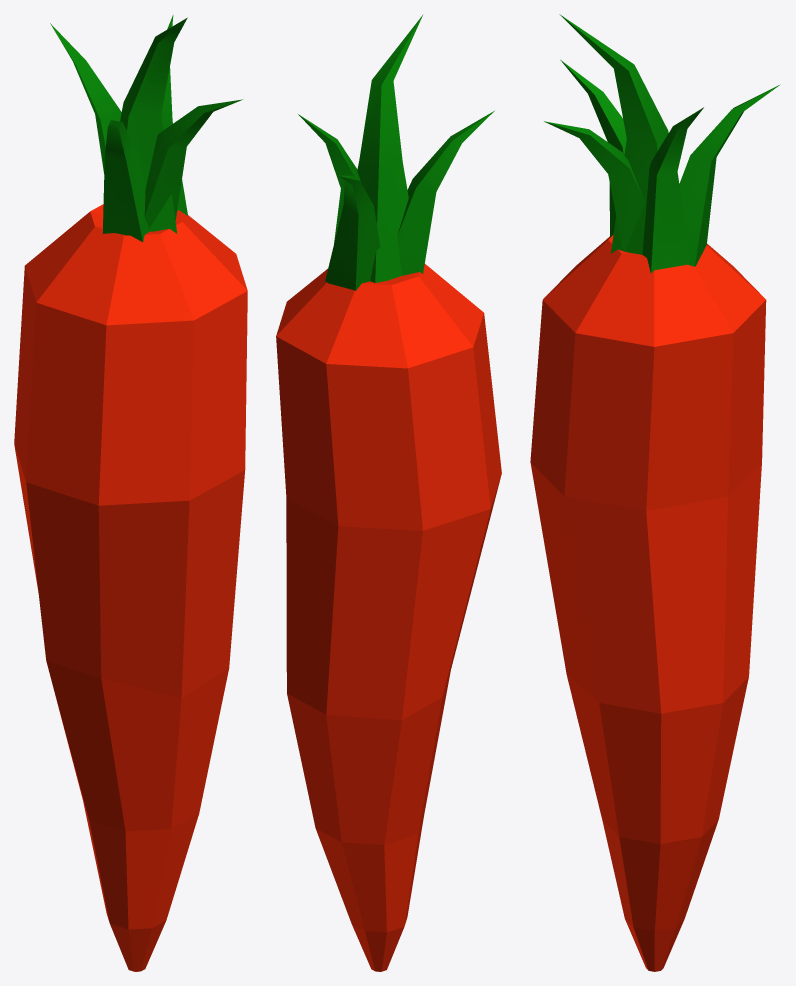
File: Carrot.obj
3 views of the same model, side by side, from view 1: azimuth 30°, elevation 25°; view 2: azimuth 150°, elevation 25°; view 3: azimuth 270°, elevation 25° (orthographic). The views are drawn at different scales.
Visible parts, largest first — view 1: pCone1, pCone6, pCone9, pCone8, pCone7, pCone5; view 2: pCone1, pCone6, pCone7, pCone9, pCone5; view 3: pCone1, pCone6, pCone5, pCone7, pCone8, pCone9.
Part boxes in pixels (x1,y1,x2,y2): pCone1: [14, 204, 247, 971]; pCone6: [120, 17, 187, 233]; pCone9: [102, 120, 149, 242]; pCone8: [144, 99, 243, 228]; pCone7: [50, 23, 121, 173]; pCone5: [161, 15, 187, 215]; pCone1: [276, 264, 501, 971]; pCone6: [357, 14, 423, 282]; pCone7: [325, 175, 380, 290]; pCone9: [397, 111, 494, 275]; pCone5: [298, 114, 360, 243]; pCone1: [530, 234, 766, 971]; pCone6: [559, 14, 668, 254]; pCone5: [642, 107, 703, 273]; pCone7: [679, 84, 780, 266]; pCone8: [544, 121, 644, 251]; pCone9: [560, 60, 626, 236].
Bounding box in the file's own units: 0.4962 × 2.19 × 0.5198.
